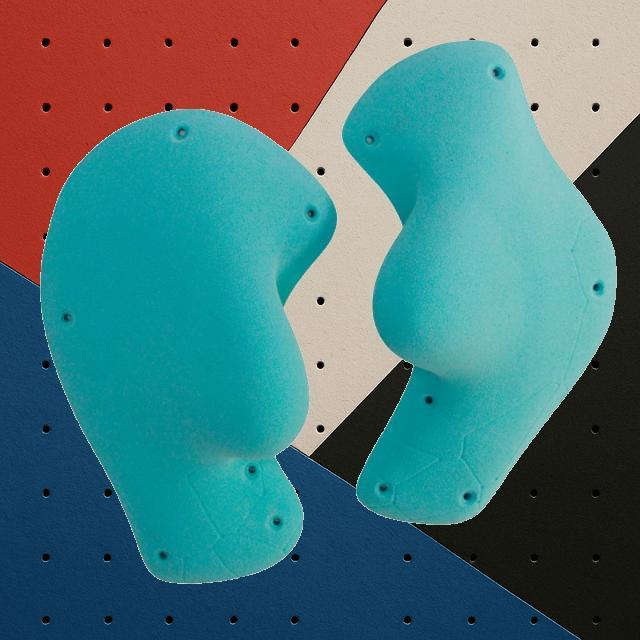Jug: (39, 107, 338, 583), (340, 39, 618, 525)
